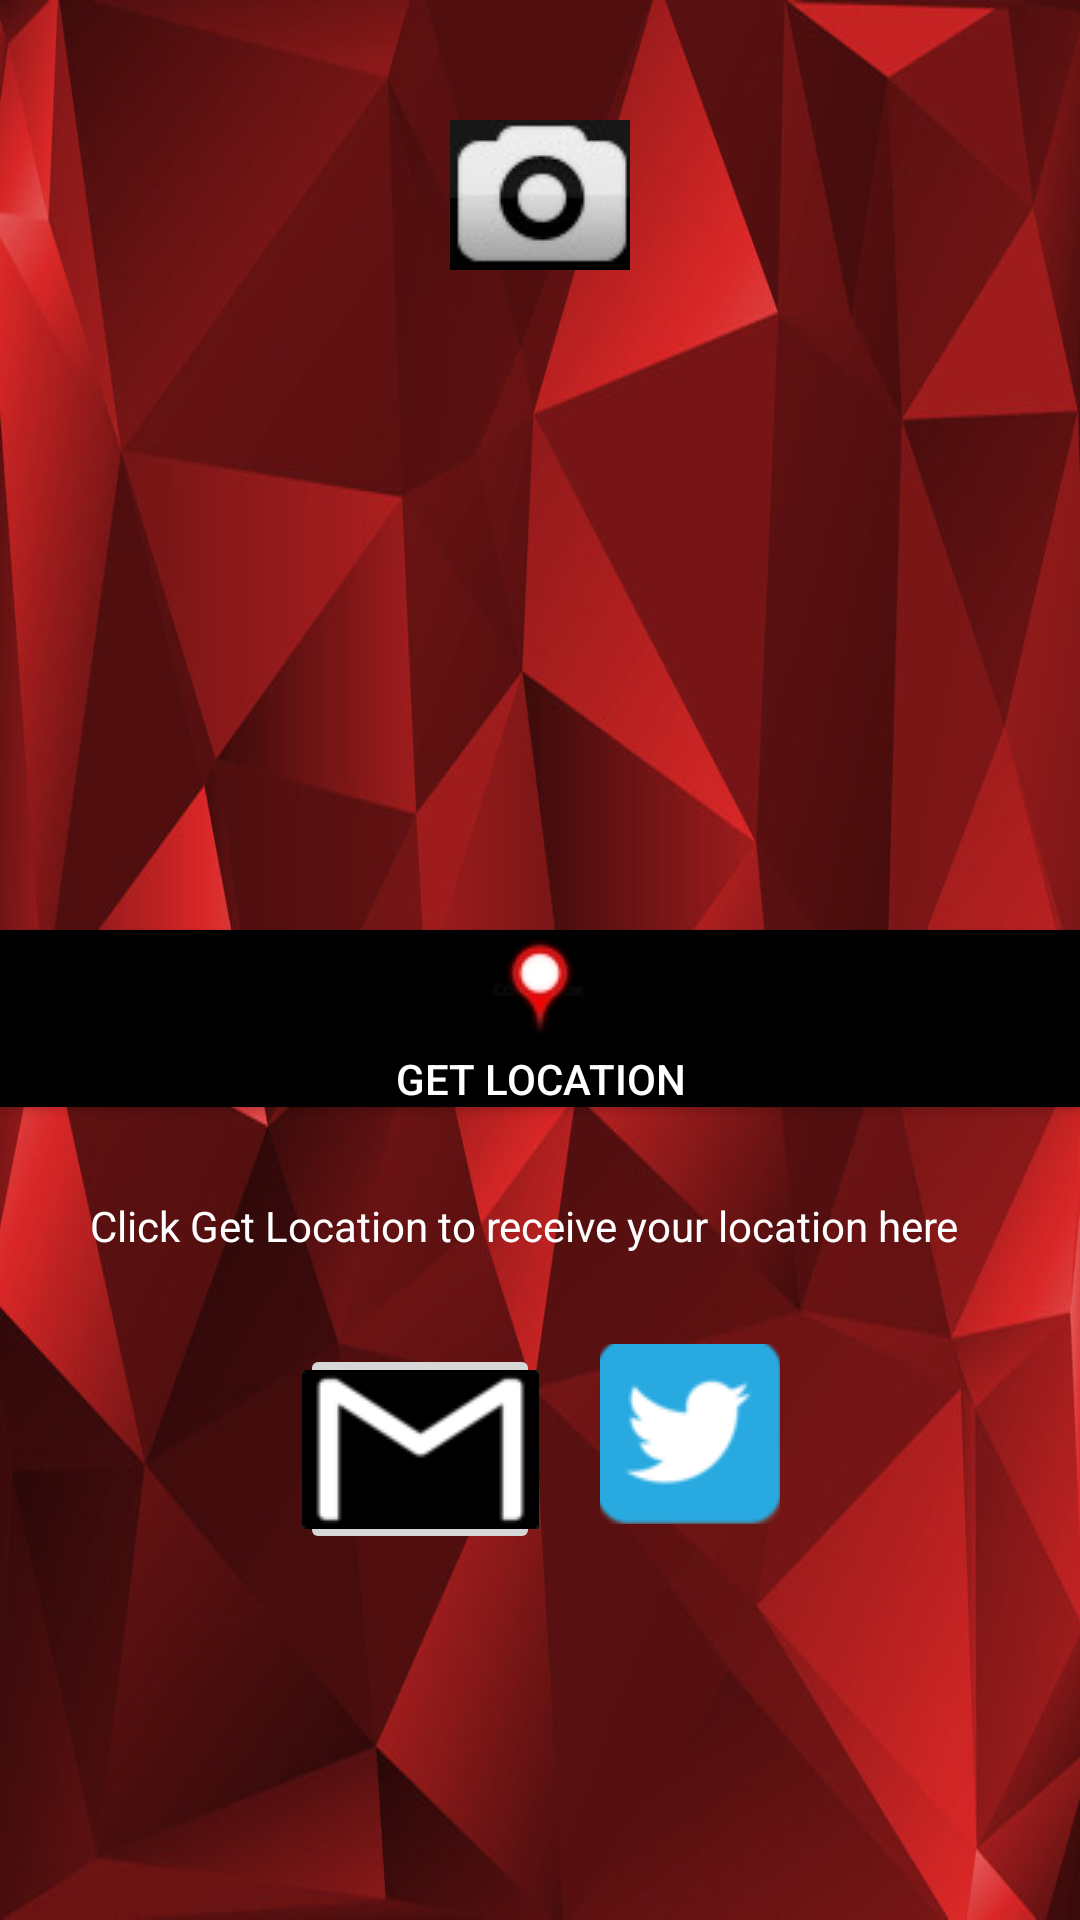

Point at icon controls on the screen. Image size 1080x1920, points as (x=x, y=y).
camera: (x=540, y=195)
